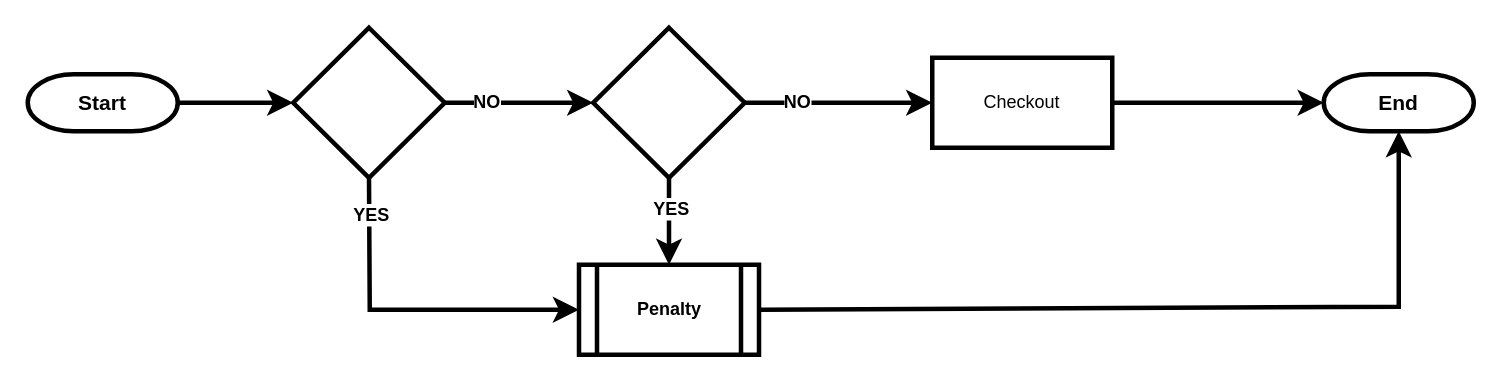
The diagram is 1502 pixels wide and 383 high, and some of its shapes have lost their labels. Each missing label, with the centre of its shape:
Has Offense?: point (668, 102)
Overstay?: point (368, 102)
